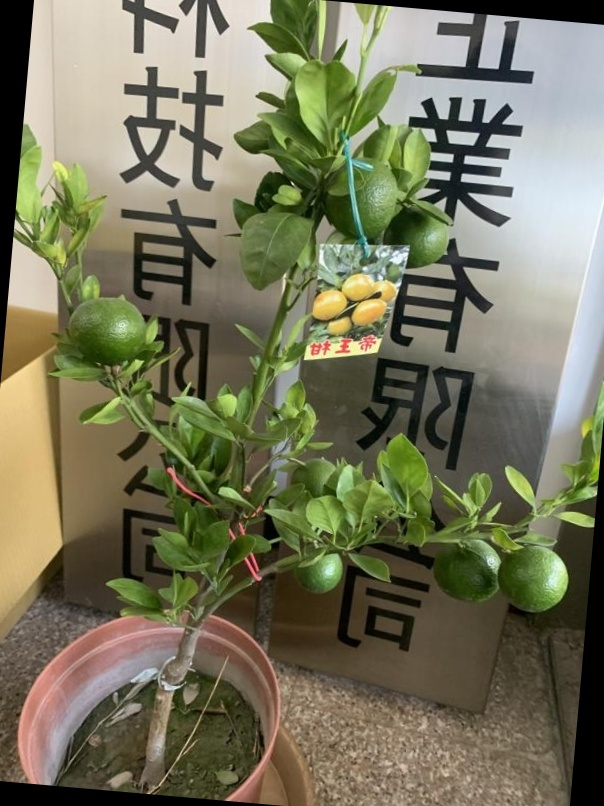Tangerine: (497, 539, 571, 618), (64, 293, 146, 364), (435, 538, 502, 604), (293, 549, 343, 593)
